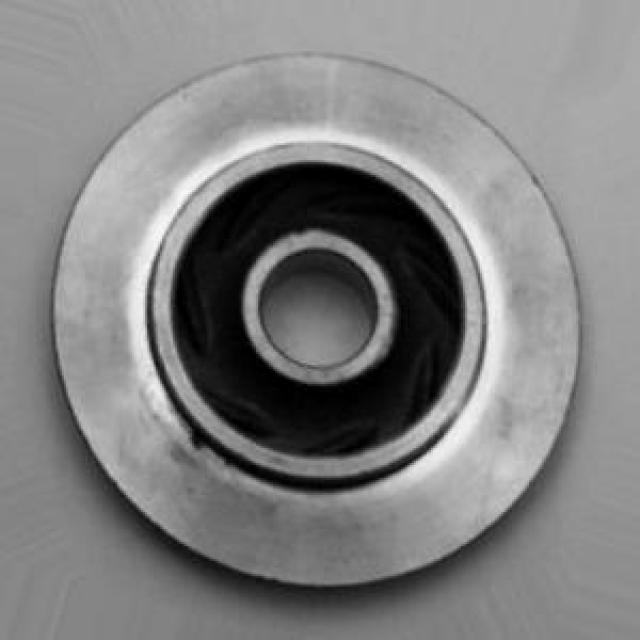Defect: (188, 430, 208, 454)
